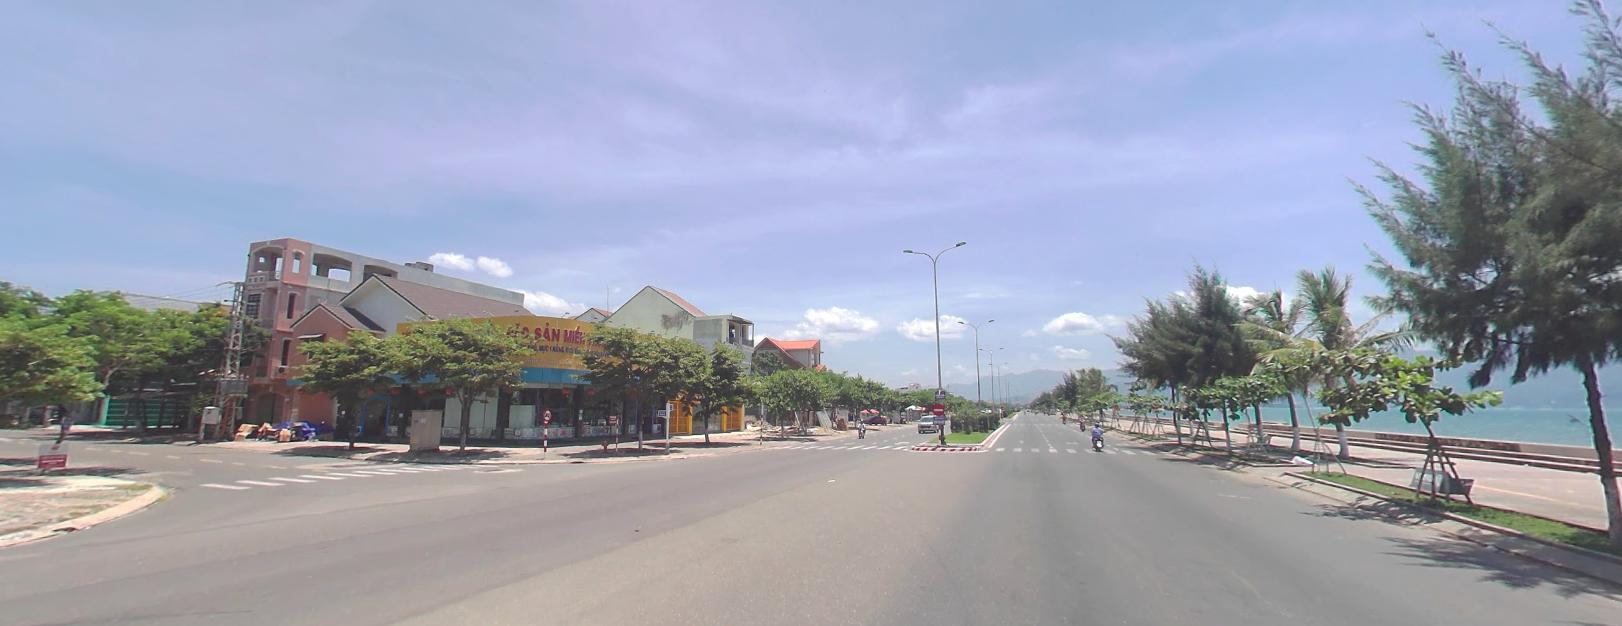Cam con lai: (542, 407, 551, 420)
Cam nguoc chieu: (932, 403, 943, 413)
